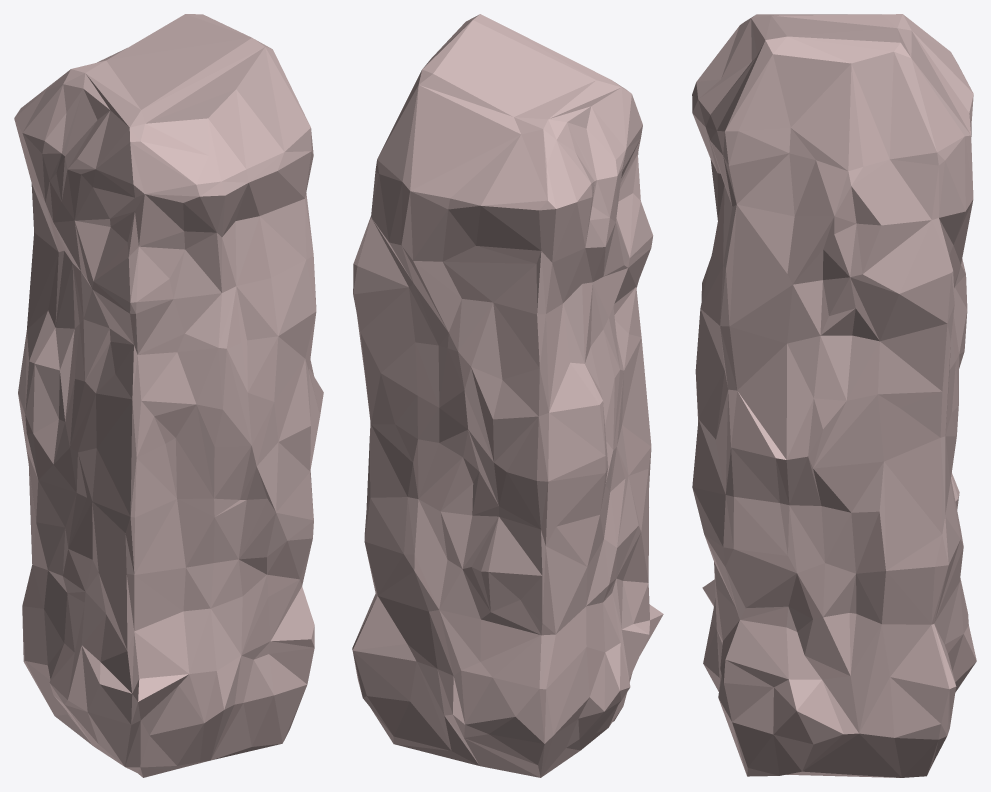
Rendered from rockPillar.fbx.
The picture shows the model from 3 angles, left to right: view 1: azimuth 30°, elevation 25°; view 2: azimuth 150°, elevation 25°; view 3: azimuth 270°, elevation 25°; orthographic projection. The views are drawn at different scales.
Parts seen in each view (by area): view 1: ruins1; view 2: ruins1; view 3: ruins1.
Boxes of the visible parts, x1=… form: ruins1: x1=14, y1=14, x2=323, y2=777; ruins1: x1=352, y1=14, x2=663, y2=777; ruins1: x1=692, y1=14, x2=976, y2=777.
Size of the model in its own units: 1.64 by 4.42 by 1.55.
